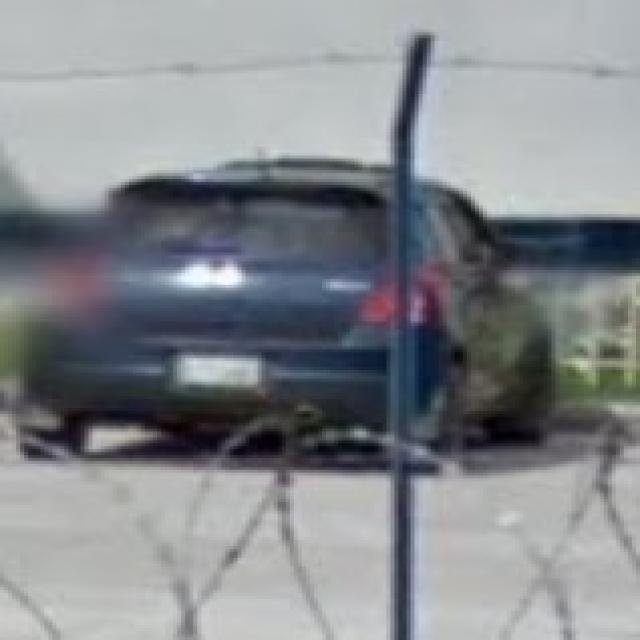Car: (18, 158, 550, 455)
